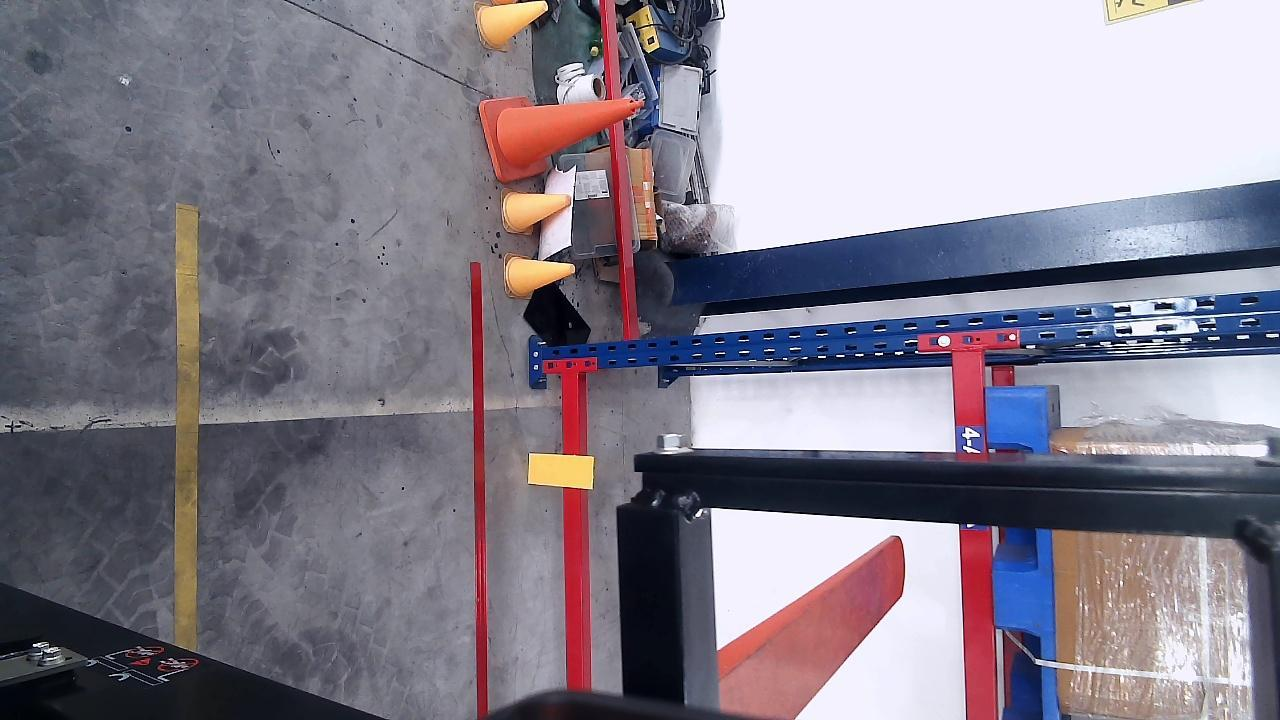h_rack: (952, 352, 998, 718), (560, 373, 587, 688)
orange_strip: (528, 454, 595, 488)
red_line: (467, 261, 490, 717)
small_pallet: (984, 389, 1056, 720)
yellow_line: (174, 201, 198, 655)
